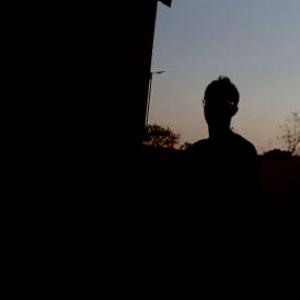follow: (130, 62, 262, 299)
